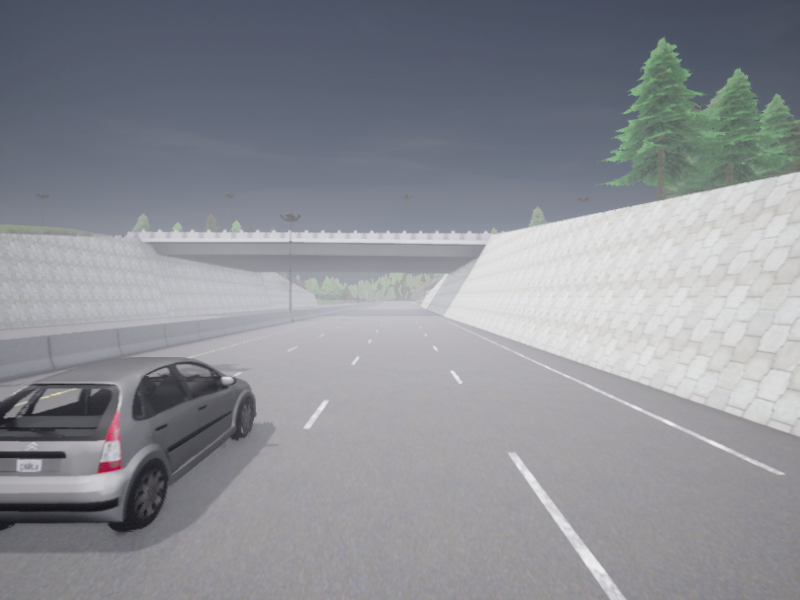vehicle: (0, 358, 255, 531)
